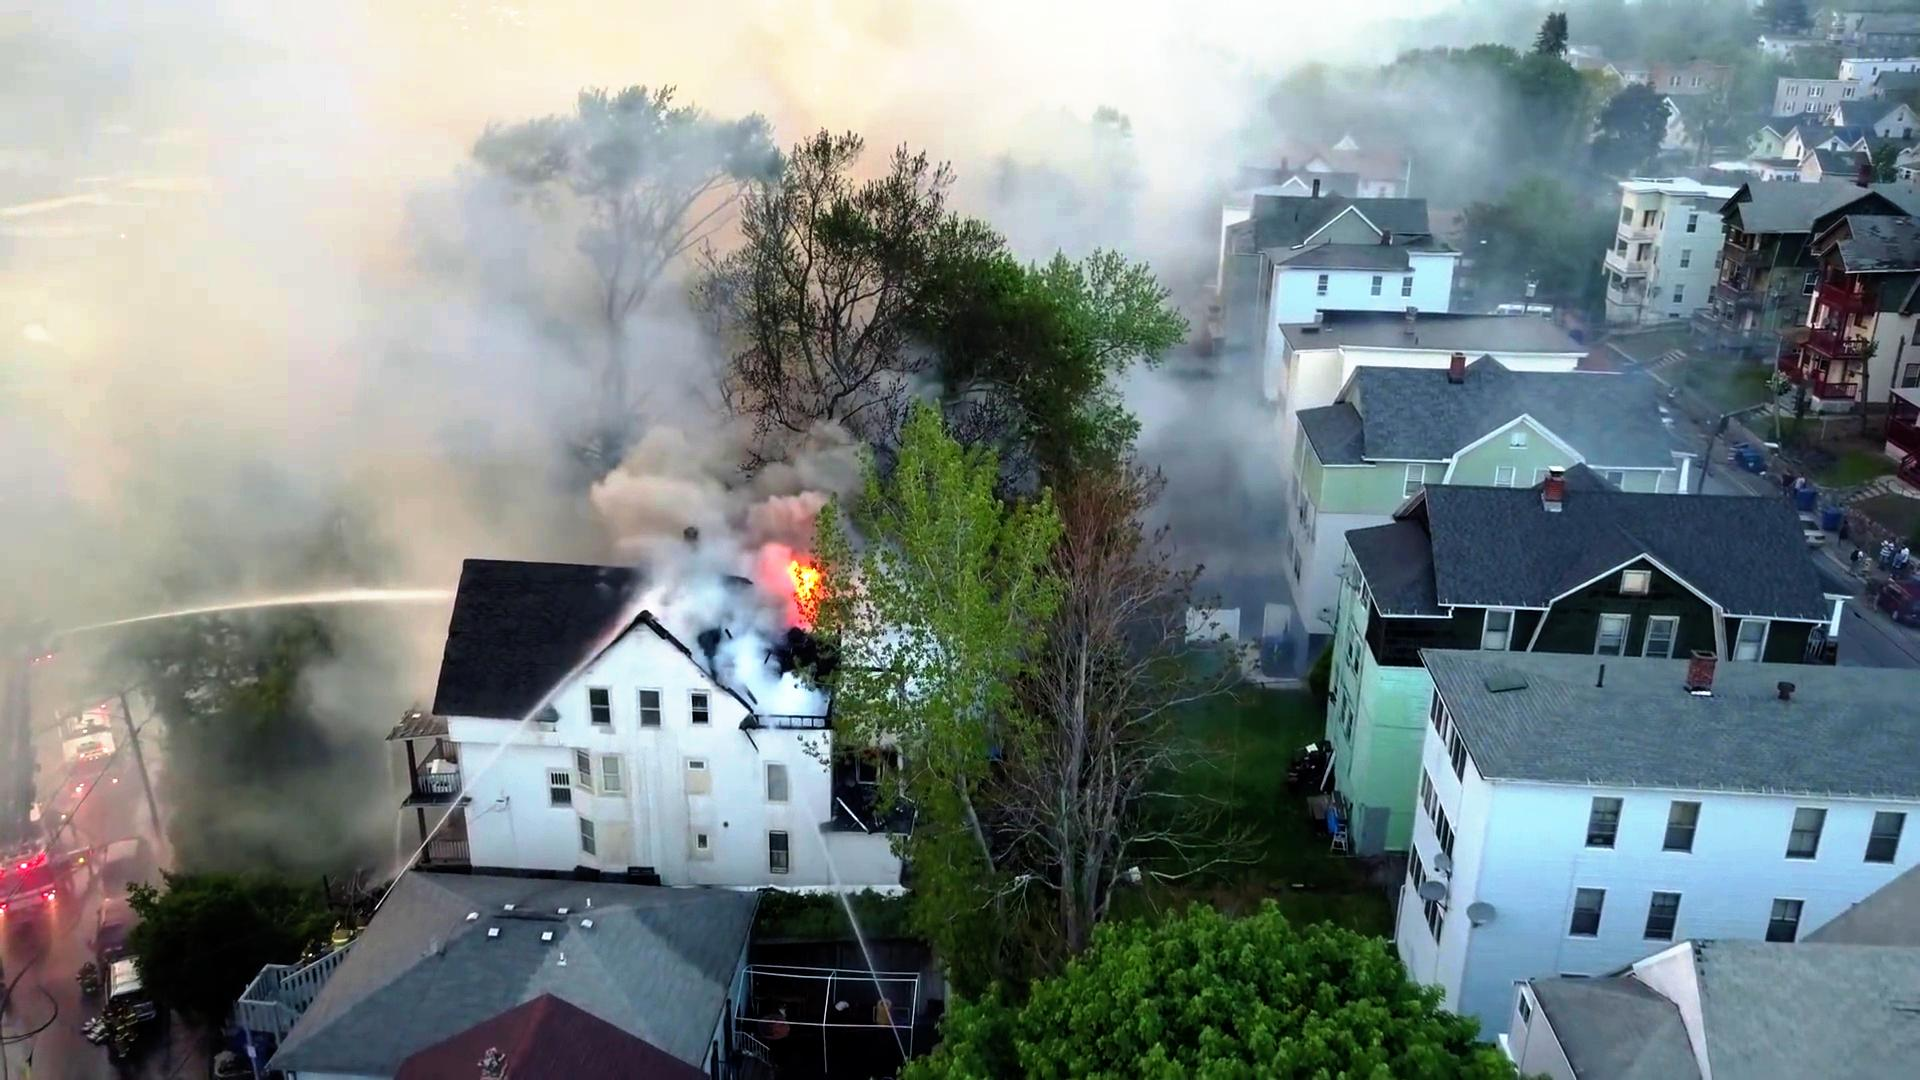smoke: (597, 429, 847, 537)
